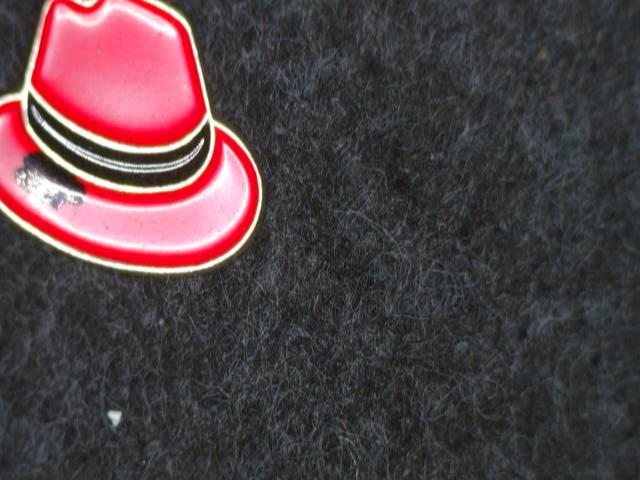Red-Hat: (0, 0, 275, 307)
Scratch: (7, 140, 111, 239)
